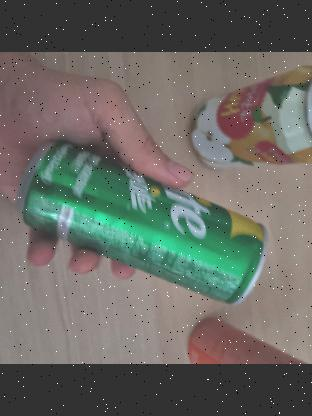Can: (29, 139, 253, 324)
